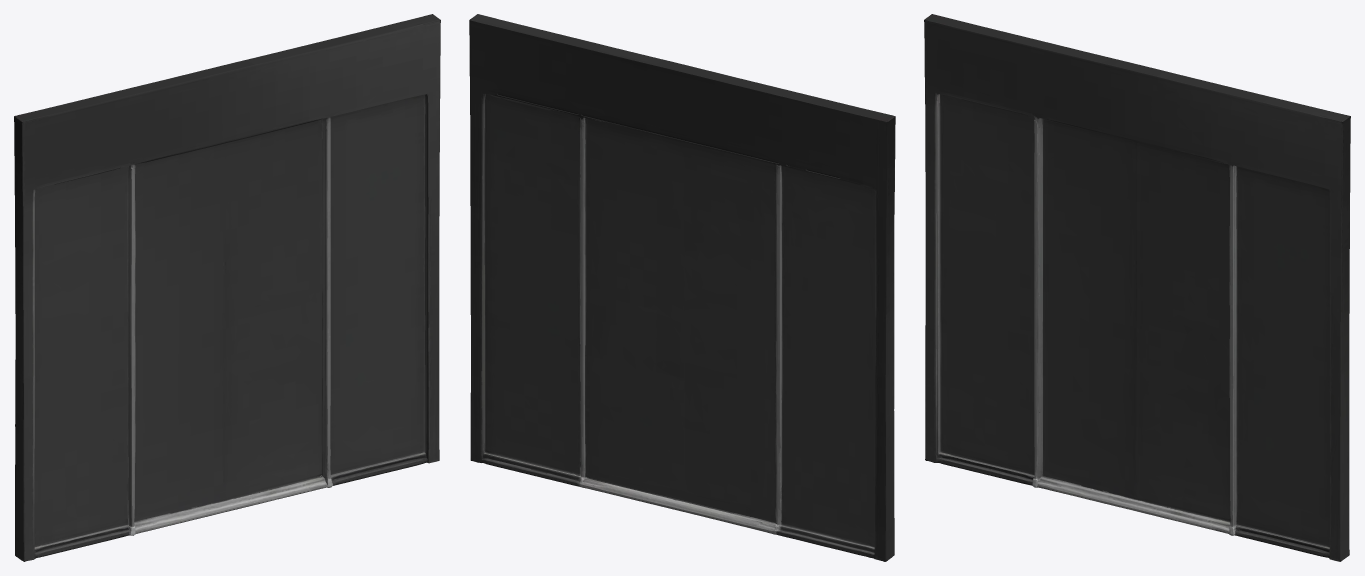
Rendered from d1380798-c299-460d-acfb-c9ce23336b61.glb.
3 views of the same model, side by side, from view 1: azimuth 30°, elevation 25°; view 2: azimuth 150°, elevation 25°; view 3: azimuth 330°, elevation 25° (orthographic).
Parts seen in each view (by area): view 1: world; view 2: world; view 3: world.
Part boxes in pixels (x1,y1,x2,y2): world: [14, 14, 440, 561]; world: [469, 14, 895, 561]; world: [924, 14, 1350, 561].
Bounding box in the file's own units: 0.995 × 1 × 0.0382.
1 material, 1 textured.
